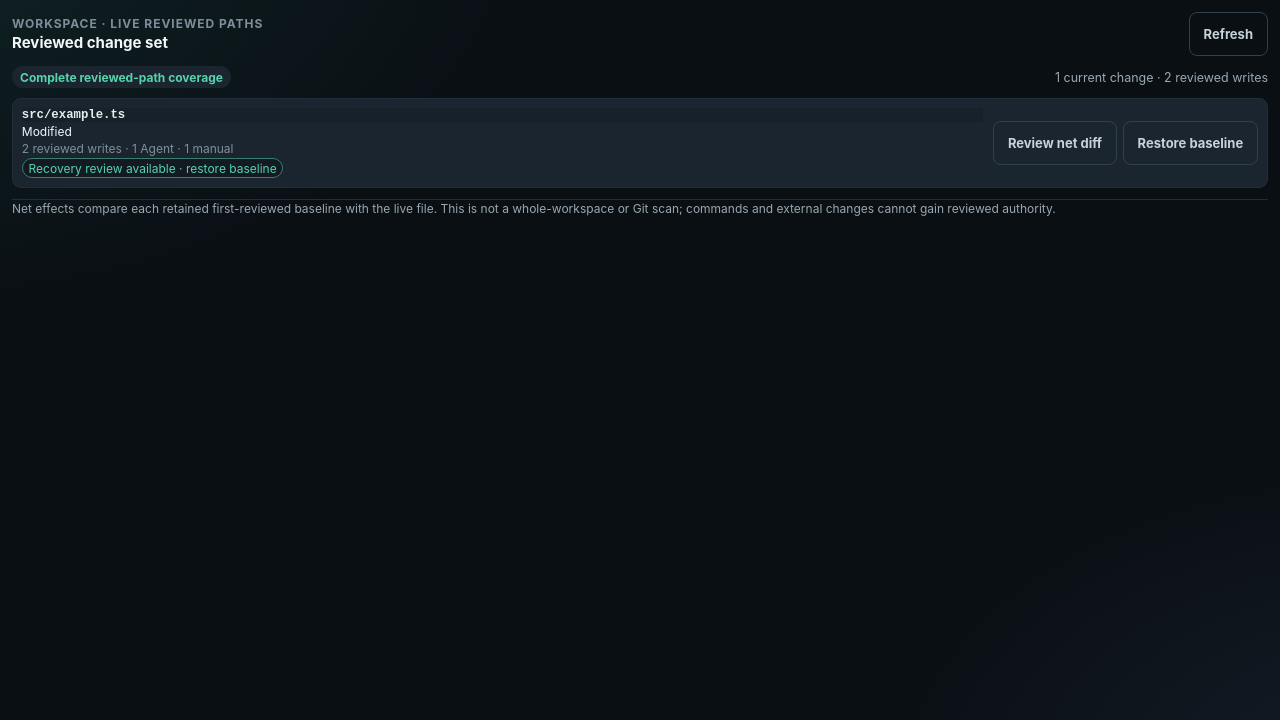
Test: AgentChangeSetPanel › keeps restore application unavailable when native confirmation is absent
Expected: the text "Modified" is shown, [22,124,72,139]
Step 1. Click the button "Restore baseline" → (1190, 143), box [1123,121,1258,165]
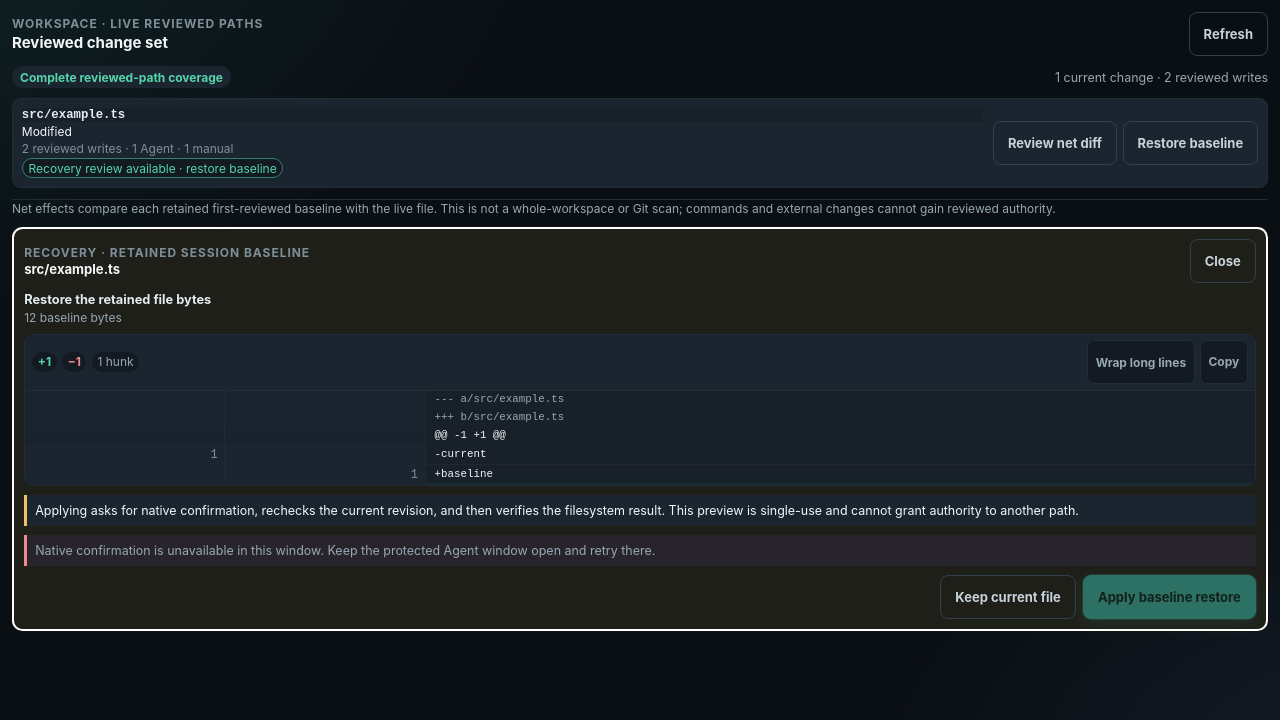
Now the text "Native confirmation is unavailable" is shown, box [35,543,655,558]
Now the button "Apply baseline restore" is disabled, box [1083,575,1256,619]
